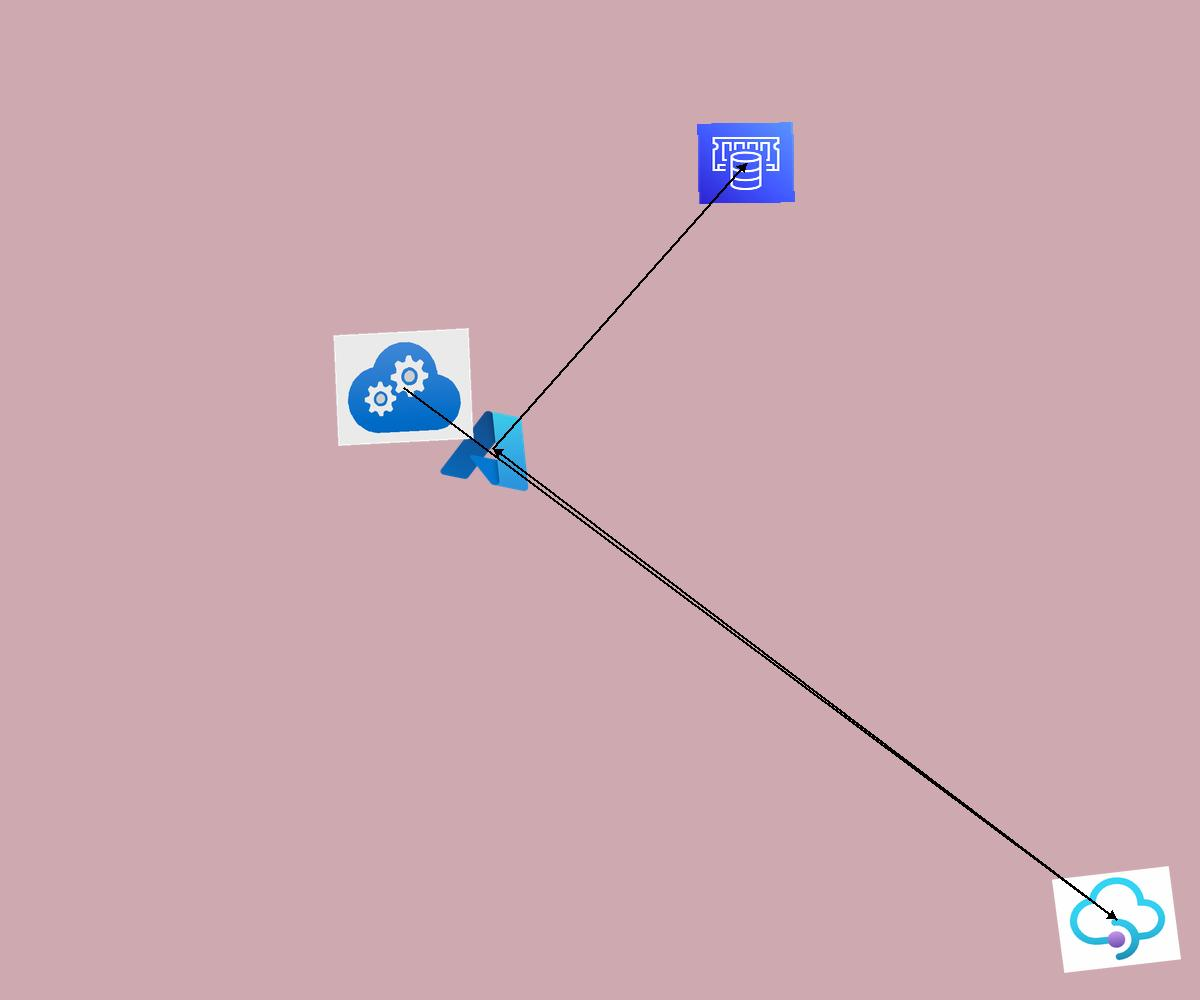AWS-ElastiCache: (697, 122, 795, 204)
Azure_api_gateway: (1052, 866, 1181, 973)
Azure_cloud_services: (333, 328, 474, 446)
Azure_services: (434, 399, 553, 498)
